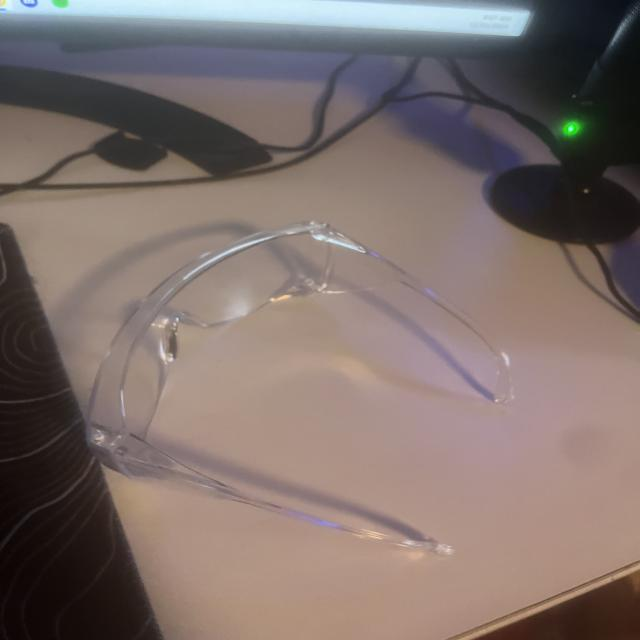Safety Glasses: (74, 207, 530, 565)
